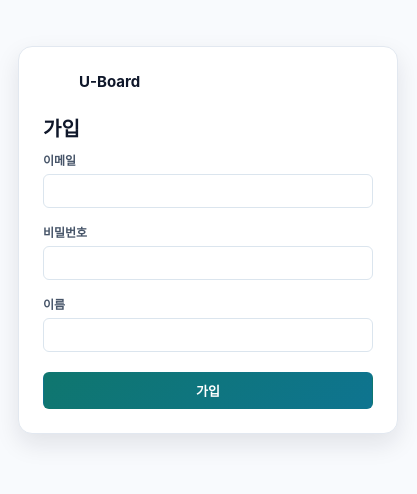
SignupPage › shows a server error message on 409 EMAIL_TAKEN
The image size is (417, 494).
In the field labelled "이메일": (208, 191) [43,174,373,208], type "dup@x.com"
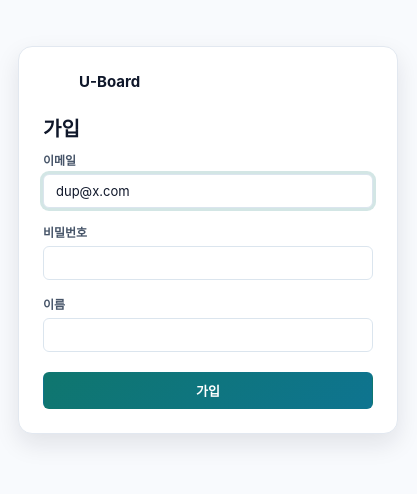
In the password field labelled "비밀번호": (208, 263) [43,246,373,280], type "p4ssword!"
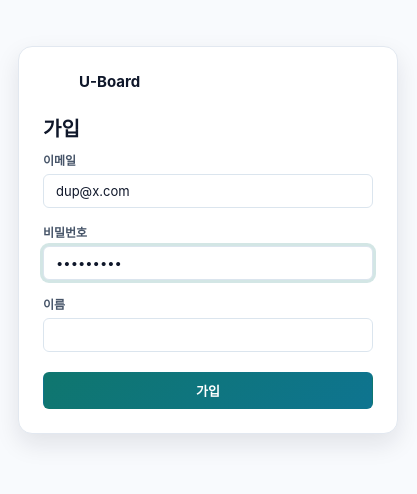
In the field labelled "이름": (208, 335) [43,318,373,352], type "A"
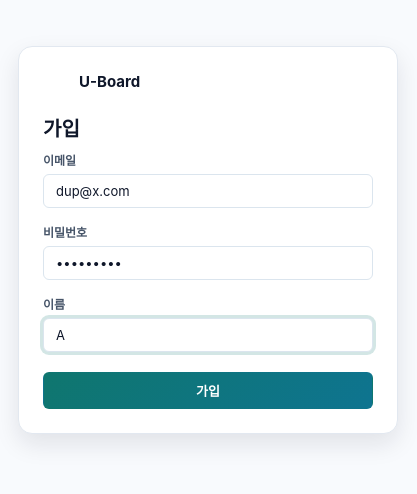
Click the button "가입": (208, 390) [43,372,373,409]
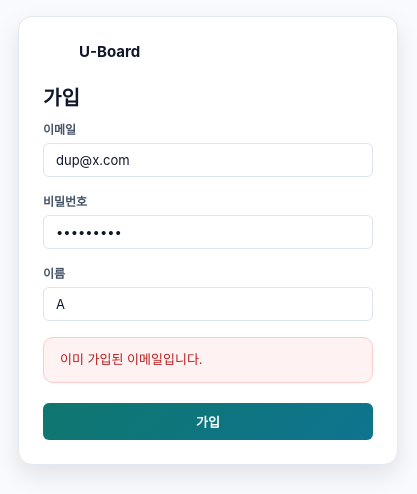
Now the text "이미 가입된 이메일입니다." is shown, box [60,350,203,370]
